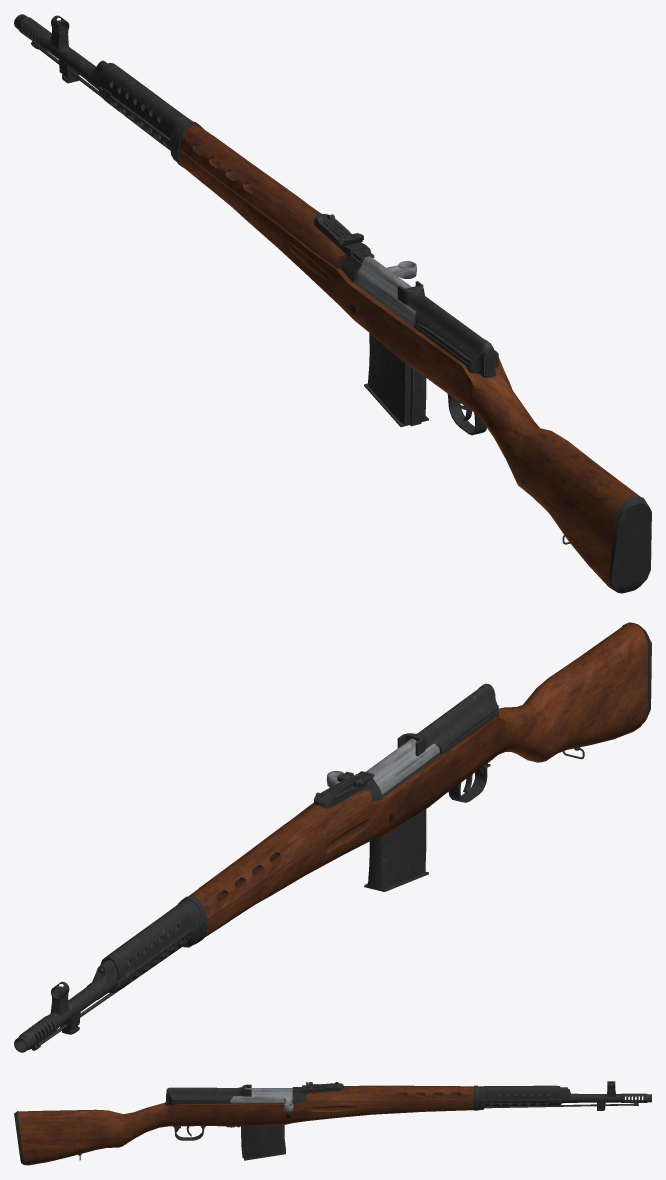
Rendered from svt-40.glb.
3 views of the same model, one above another, from view 1: azimuth 30°, elevation 25°; view 2: azimuth 150°, elevation 25°; view 3: azimuth 270°, elevation 25° (orthographic). The views are drawn at different scales.
Parts seen in each view (by area): view 1: Body, Magazine, Bolt; view 2: Body, Magazine, Bolt; view 3: Body, Magazine, Bolt.
Boxes of the visible parts, left/top/right/bottom form: Body: left=14, top=14, right=651, bottom=593; Magazine: left=364, top=333, right=428, bottom=426; Bolt: left=357, top=256, right=416, bottom=323; Body: left=14, top=622, right=651, bottom=1052; Magazine: left=364, top=809, right=428, bottom=891; Bolt: left=326, top=738, right=439, bottom=794; Body: left=14, top=1081, right=651, bottom=1165; Magazine: left=241, top=1125, right=285, bottom=1160; Bolt: left=230, top=1088, right=293, bottom=1111.
Size of the model in its own units: 0.074 by 0.1763 by 1.24.
Materials: 1 (1 with a texture image).
